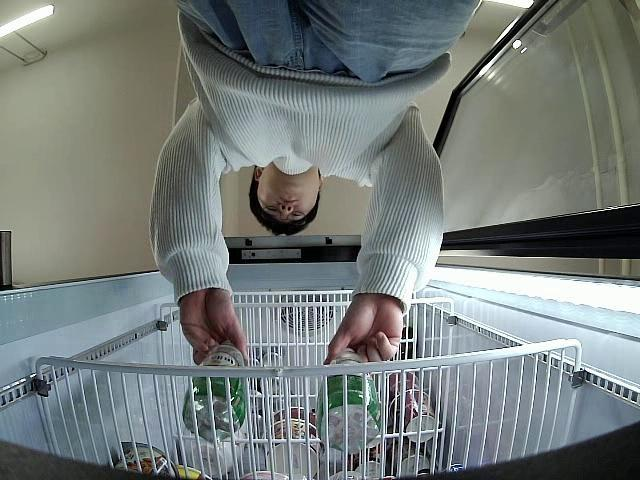18_trevi: (317, 344, 383, 454), (182, 341, 246, 442)
